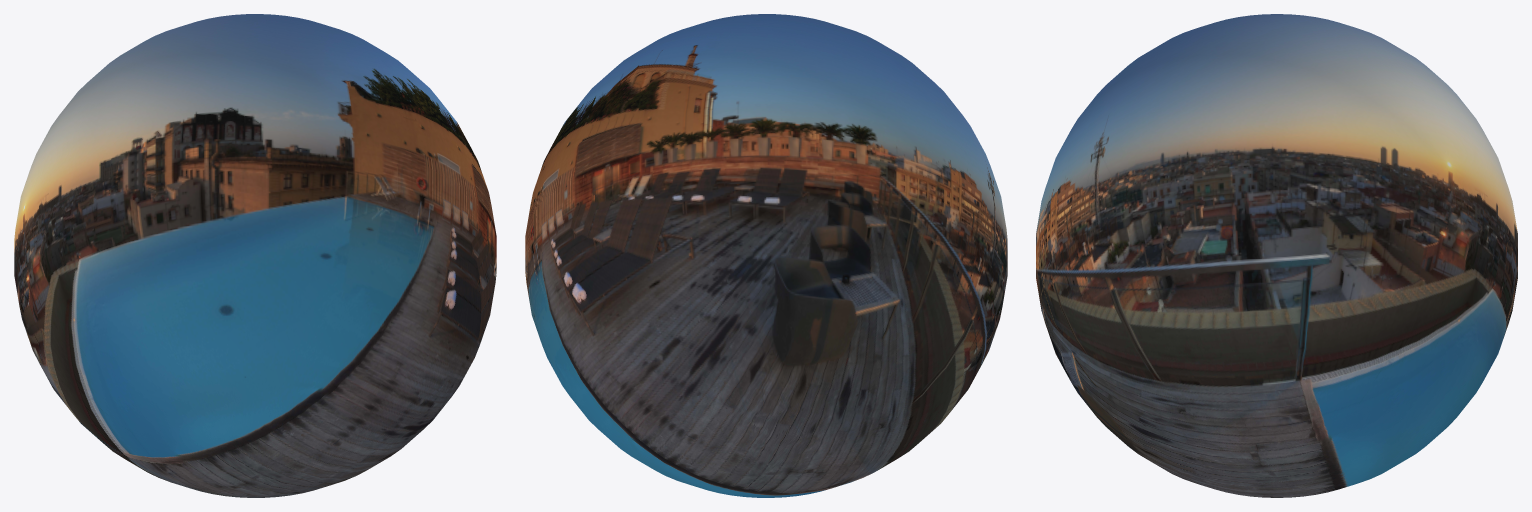
File: sky_pano_-_barcelona_rooftops.glb
3 views of the same model, side by side, from view 1: azimuth 30°, elevation 25°; view 2: azimuth 150°, elevation 25°; view 3: azimuth 270°, elevation 25° (orthographic).
Visible parts, largest first — view 1: PanoSphere; view 2: PanoSphere; view 3: PanoSphere.
Part boxes in pixels (bbox=[...]): PanoSphere: bbox=[14, 14, 496, 497]; PanoSphere: bbox=[525, 14, 1007, 497]; PanoSphere: bbox=[1036, 14, 1517, 497].
Size of the model in its own units: 9.97 by 10 by 9.95.
Materials: 1 (1 with a texture image).
